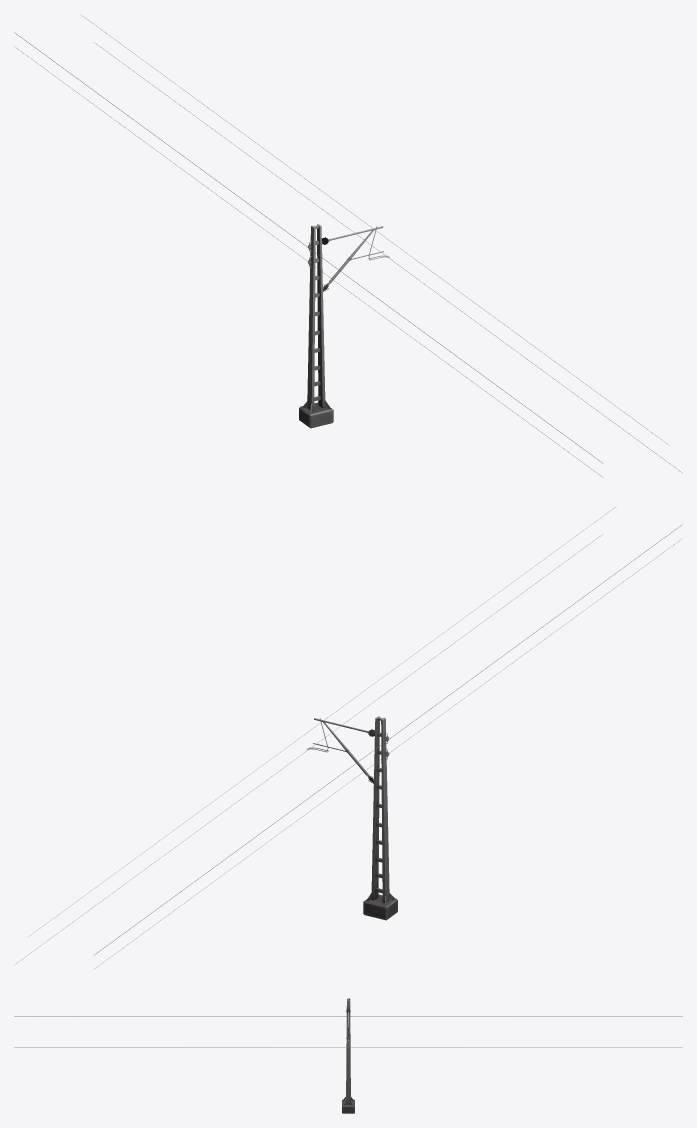
The model's file is SM_electric_pole.FBX.
The picture shows the model from 3 angles, top to bottom: view 1: azimuth 30°, elevation 25°; view 2: azimuth 150°, elevation 25°; view 3: azimuth 270°, elevation 25°; orthographic projection. The views are drawn at different scales.
Parts seen in each view (by area): view 1: SM_electric_pole; view 2: SM_electric_pole; view 3: SM_electric_pole.
Boxes of the visible parts, <box> form: SM_electric_pole: <box>14,14,681,476</box>; SM_electric_pole: <box>15,506,682,968</box>; SM_electric_pole: <box>14,998,682,1113</box>.
Bounding box in the file's own units: 424 × 5000 × 917.
